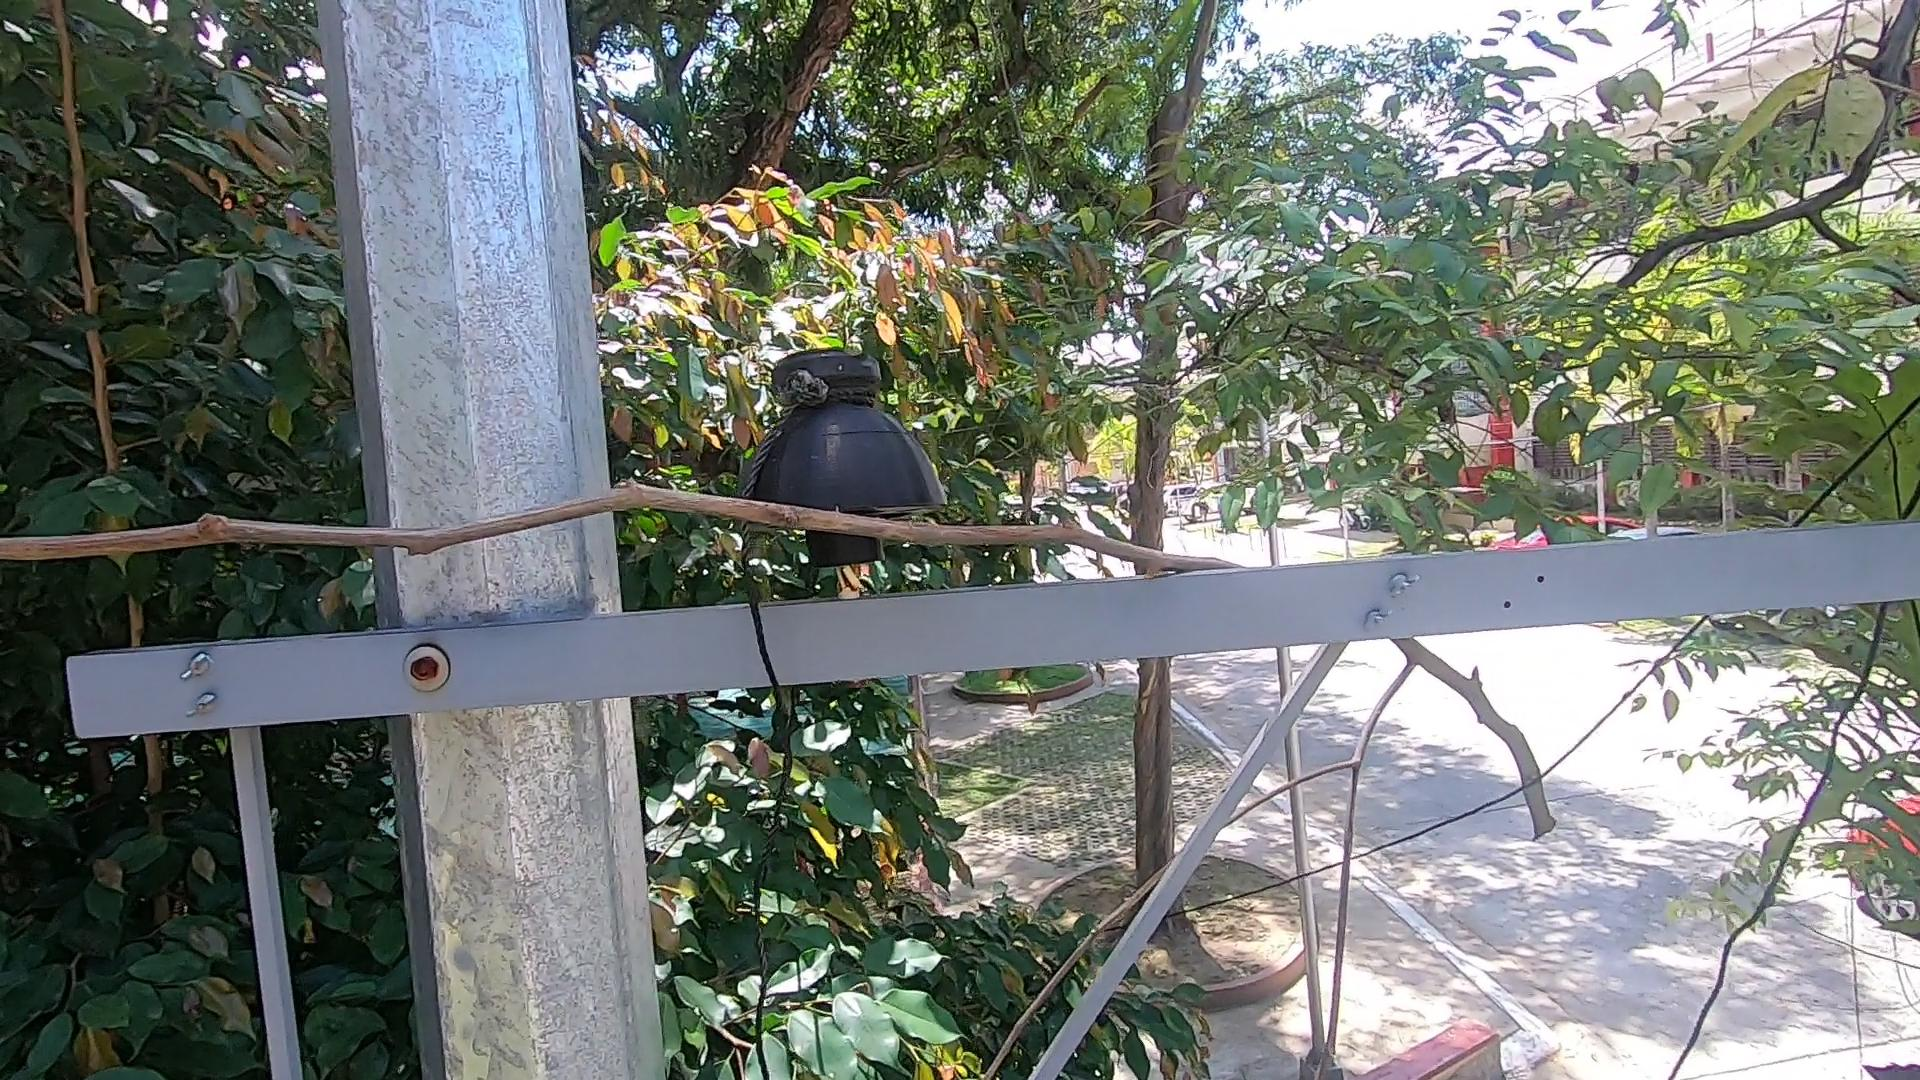tree branch: (963, 634, 1617, 1075), (3, 442, 1246, 575)
